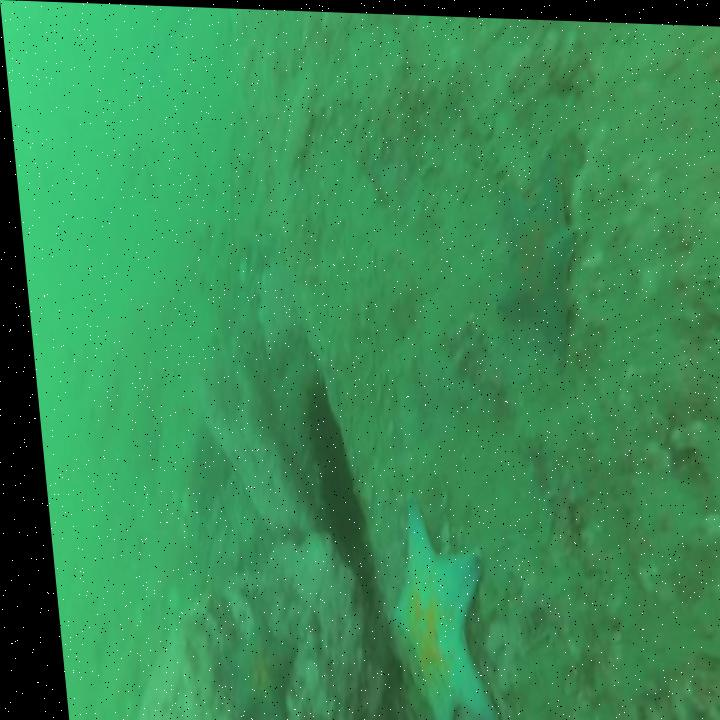echinus: (301, 452, 360, 552), (289, 372, 339, 464)
starfish: (365, 500, 489, 720), (477, 152, 585, 358), (203, 604, 291, 720)
